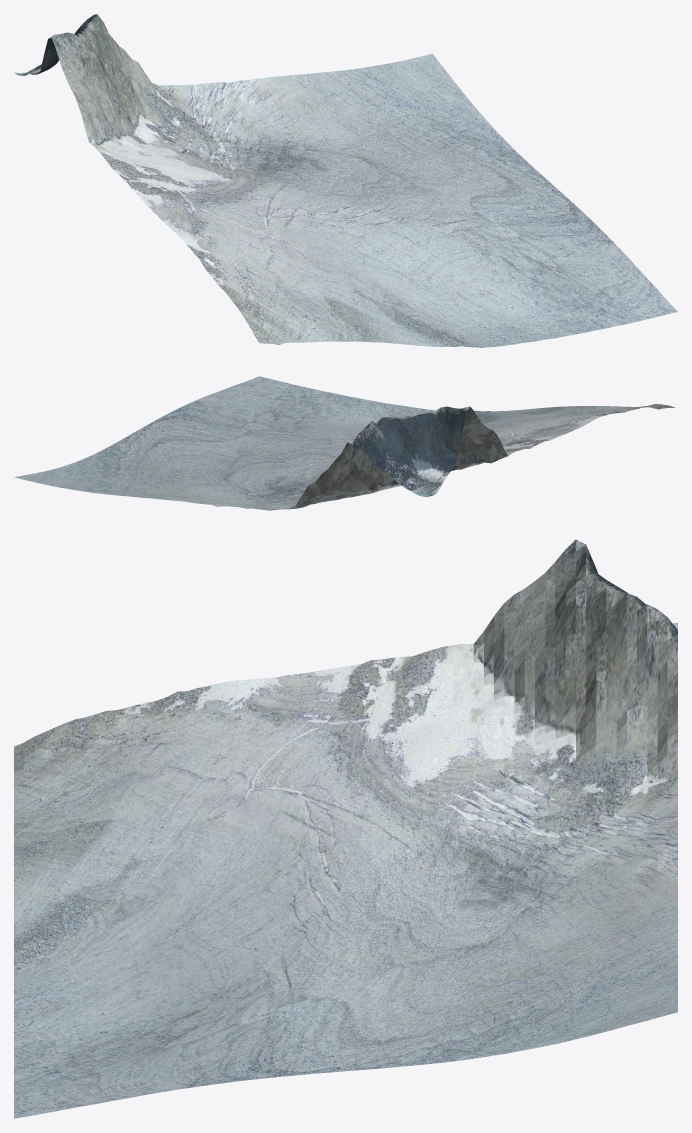
File: Silv_tile_31.gltf
3 views of the same model, one above another, from view 1: azimuth 30°, elevation 25°; view 2: azimuth 150°, elevation 25°; view 3: azimuth 270°, elevation 25° (orthographic). The views are drawn at different scales.
Parts seen in each view (by area): view 1: 18.007; view 2: 18.007; view 3: 18.007.
Part boxes in pixels (x1=…): 18.007: x1=14, y1=14, x2=677, y2=347; 18.007: x1=14, y1=376, x2=675, y2=510; 18.007: x1=14, y1=539, x2=677, y2=1118.
Size of the model in its own units: 0.5 by 0.2557 by 0.5078.
Materials: 1 (1 with a texture image).
